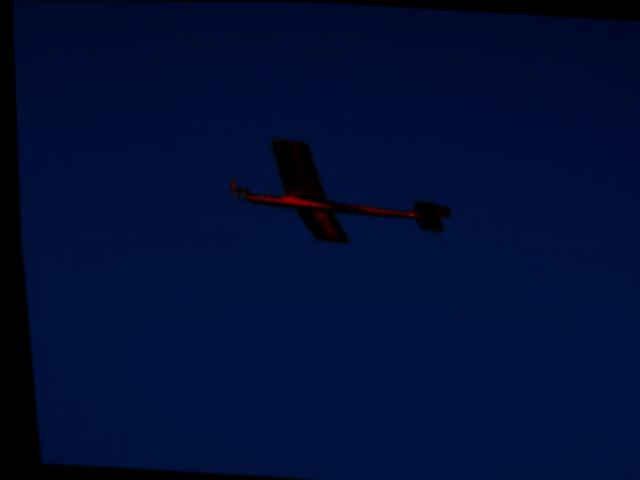iha: (218, 134, 456, 254)
